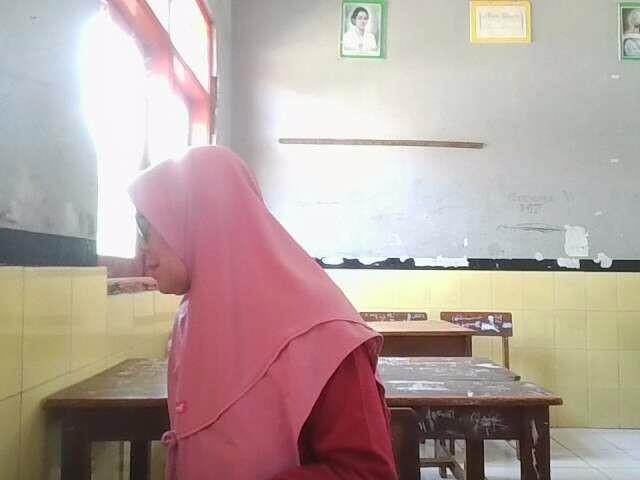cheating: (111, 125, 415, 480)
